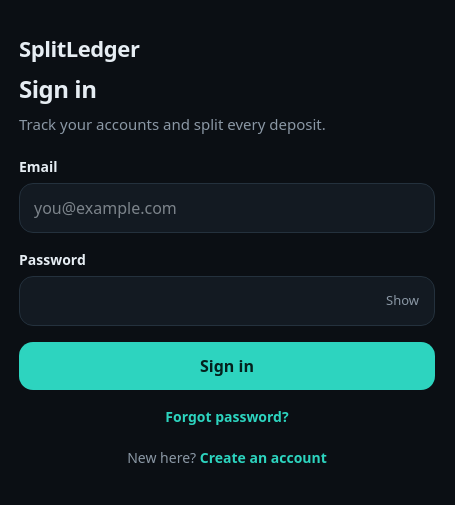
Test: login › shows validation messages for empty input
Click the button "Sign in" at (227, 366), box [19, 342, 435, 390]
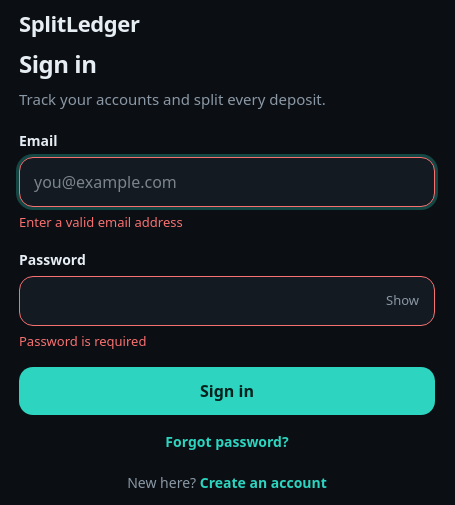
Expected: the text "Enter a valid email address" is shown, [19, 213, 183, 231]
Expected: the text "Password is required" is shown, [19, 332, 146, 350]
